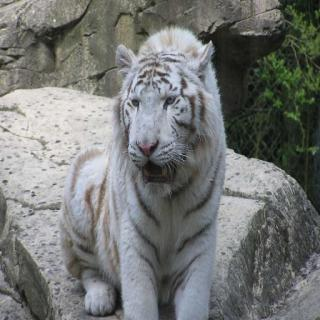Tiger: (51, 20, 238, 320)
